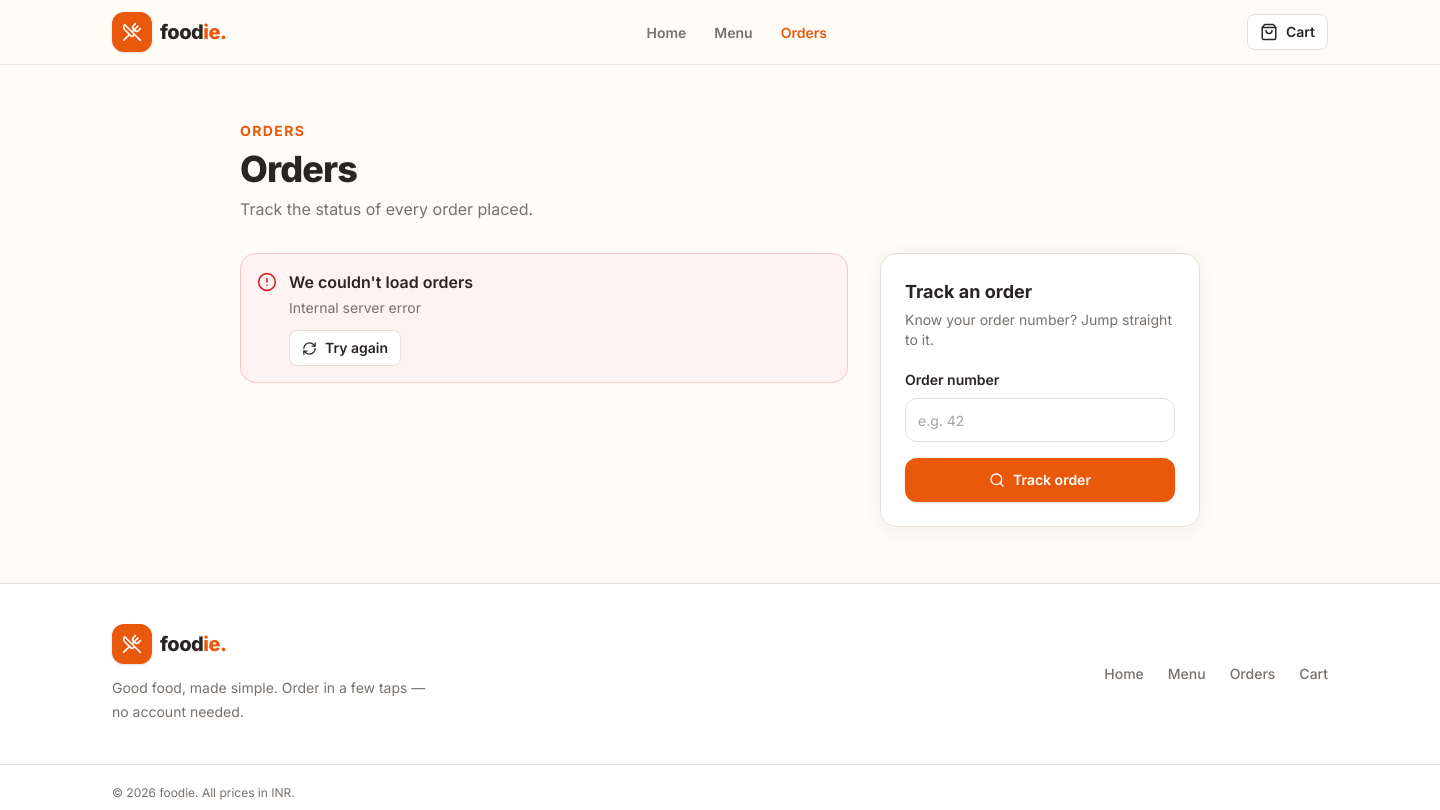
Orders page › shows an error with retry
Expected: the text "We couldn't load orders" is shown, [289,272,473,292]
Click the button "Try again" at (345, 348), box [289,330,401,366]
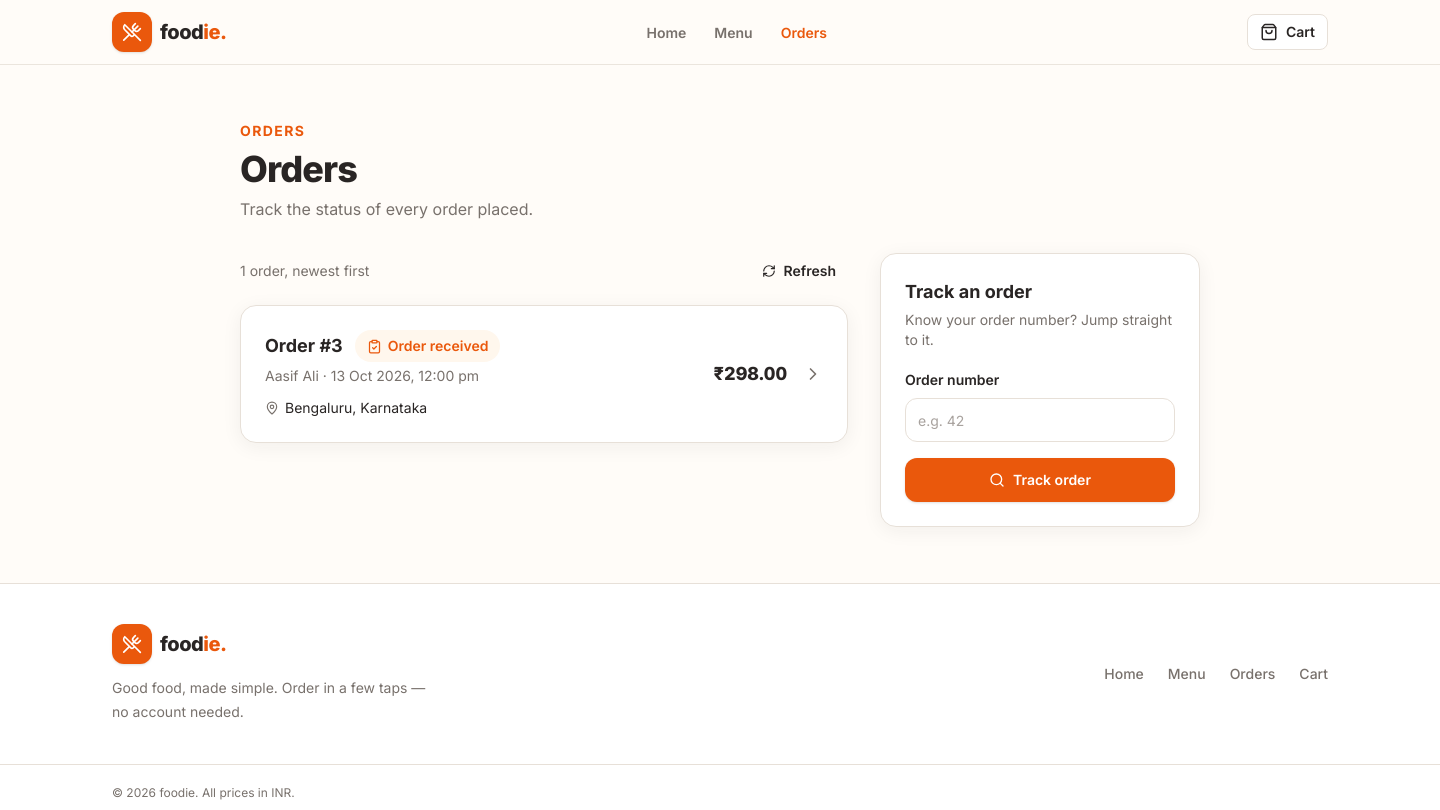
Result: the link with aria-label "Order #3, view details" is shown at [241,306,847,442]
